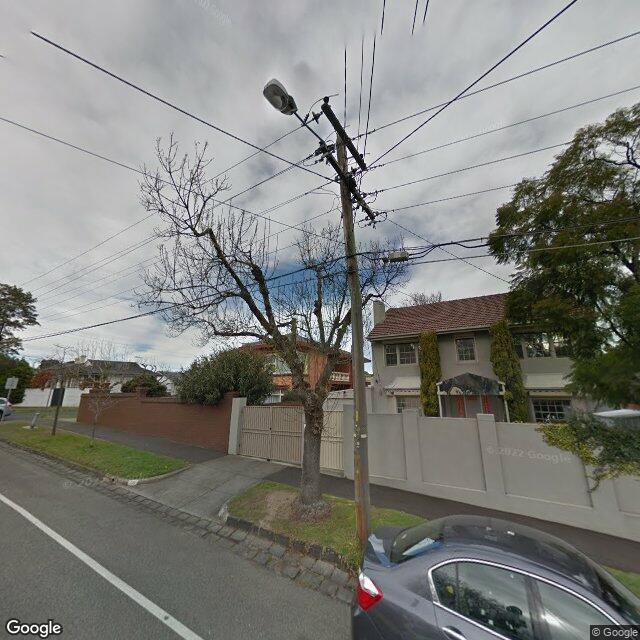HV-transmission: (302, 96, 363, 176)
crossarm: (319, 141, 375, 220), (321, 104, 366, 170)
streetlight: (263, 78, 323, 142)
timber-pole: (336, 133, 371, 551)
